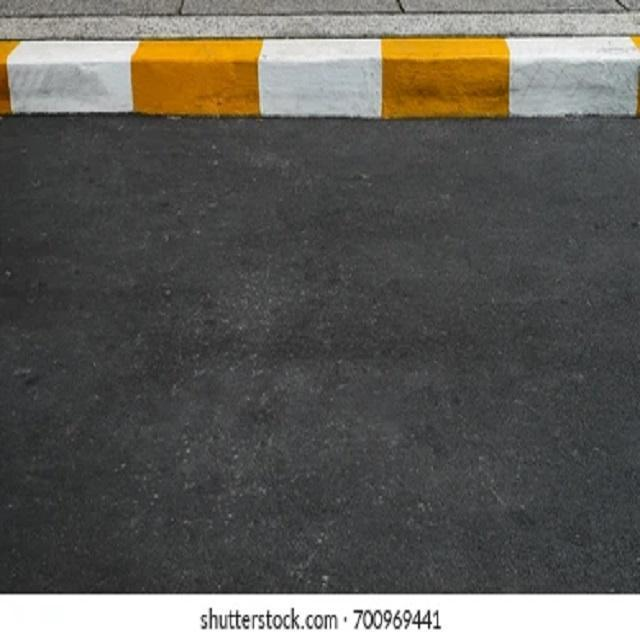bump: (0, 21, 640, 126)
